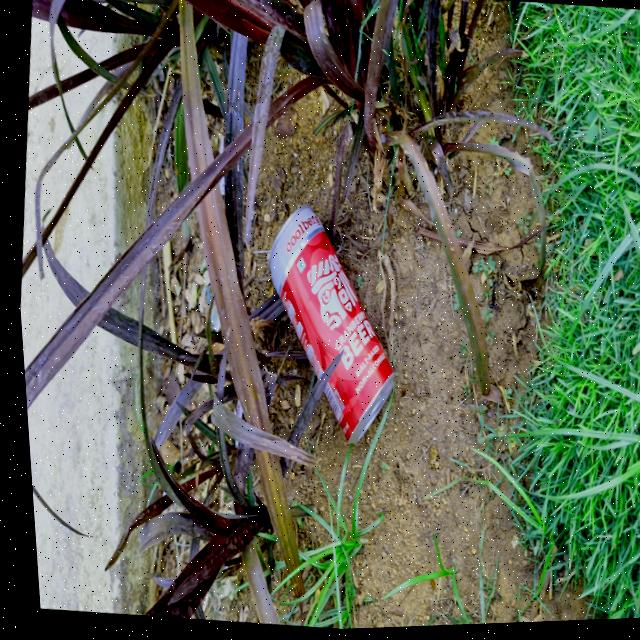Coolberg: (236, 196, 401, 448)
